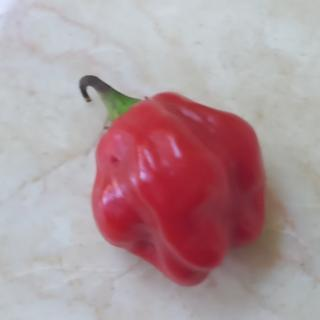Grade-B: (80, 83, 272, 288)
